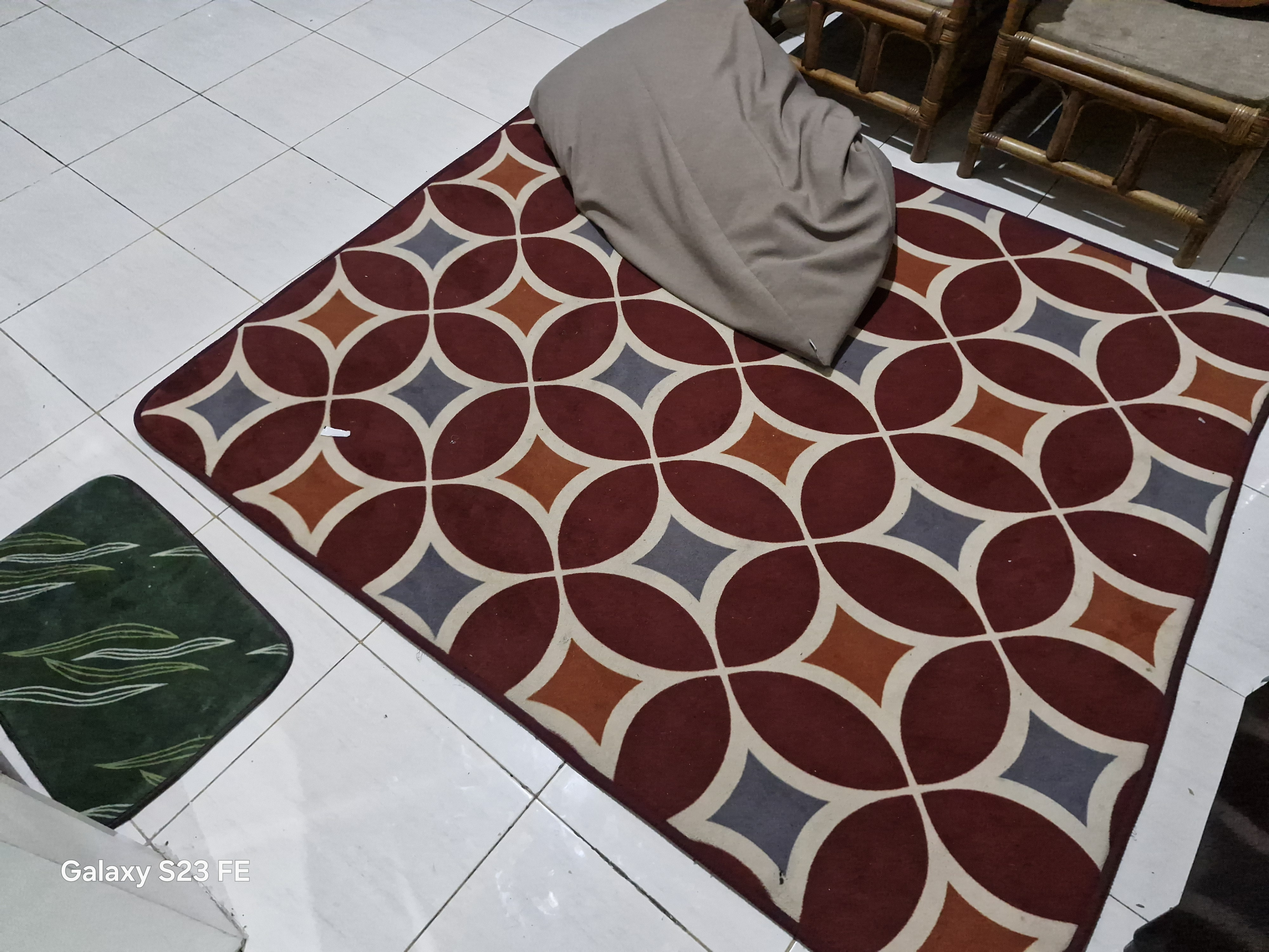chair: (959, 0, 1268, 267), (798, 0, 972, 162)
floor-other-merged: (0, 0, 1268, 951), (1137, 129, 1234, 208), (1065, 102, 1136, 175), (994, 74, 1061, 148), (875, 33, 932, 104), (819, 12, 862, 77), (1168, 0, 1268, 25)
pillow: (530, 0, 895, 365)
rug-merged: (140, 118, 1265, 951), (0, 476, 291, 827)
